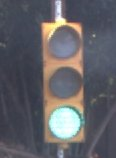Green: (39, 16, 92, 147)
